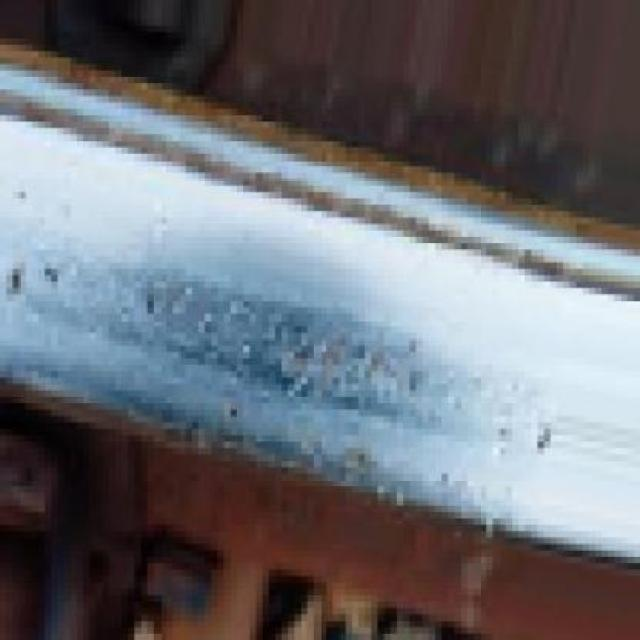non-defective: (0, 30, 638, 638)
